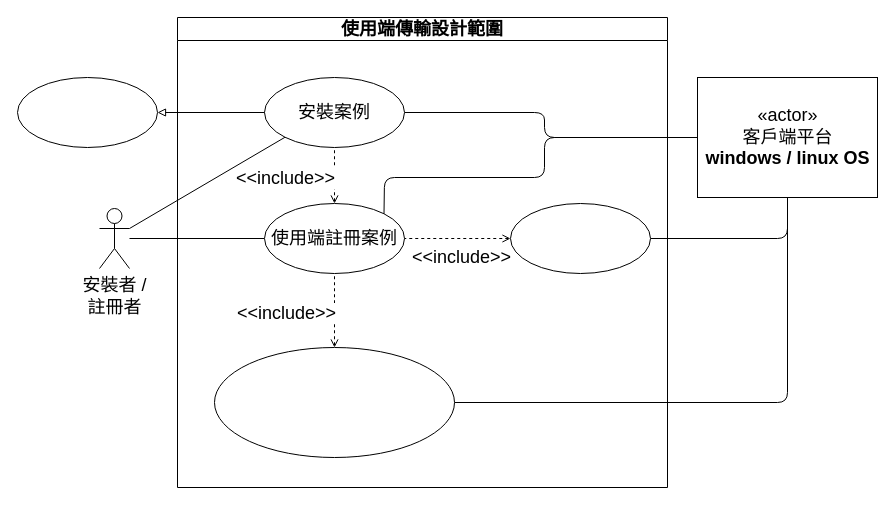
The diagram is 895 pixels wide and 505 high, and some of its shapes have lost their labels. The centre of each missing label's shape, as x and y in pixels:
加解密案例: (580,238)
原安裝案例: (87,112)
封包傳送案例: (334,402)
